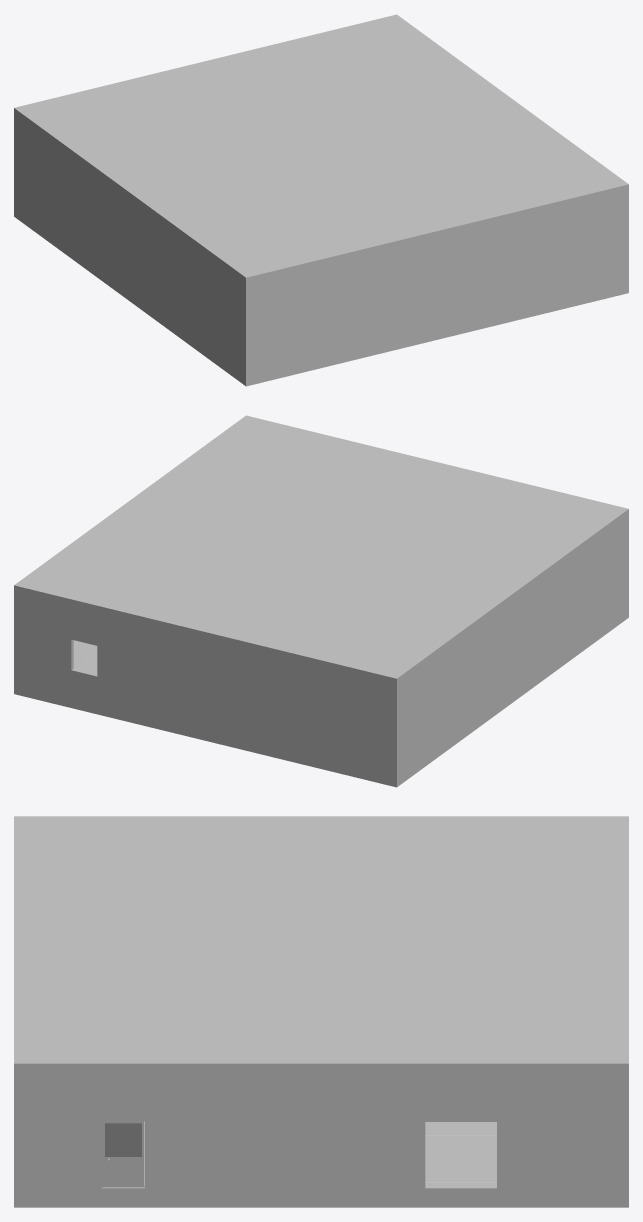
File: xiaofangzi_02.FBX
The picture shows the model from 3 angles, top to bottom: view 1: azimuth 30°, elevation 25°; view 2: azimuth 150°, elevation 25°; view 3: azimuth 270°, elevation 25°; orthographic projection. The views are drawn at different scales.
Parts seen in each view (by area): view 1: xiaofangzi_02_01; view 2: xiaofangzi_02_01, xiaofangzi_02_03; view 3: xiaofangzi_02_01, xiaofangzi_02_03, xiaofangzi_02_04, xiaofangzi_02_boli_01.
Part boxes in pixels (x1,y1,x2,y2): xiaofangzi_02_01: (14, 14, 628, 386); xiaofangzi_02_01: (14, 415, 628, 787); xiaofangzi_02_03: (73, 640, 97, 674); xiaofangzi_02_01: (14, 816, 628, 1207); xiaofangzi_02_03: (425, 1122, 496, 1185); xiaofangzi_02_04: (101, 1121, 145, 1187); xiaofangzi_02_boli_01: (105, 1123, 141, 1156).
Bounding box in the file's own units: 2120 × 711 × 2226.
